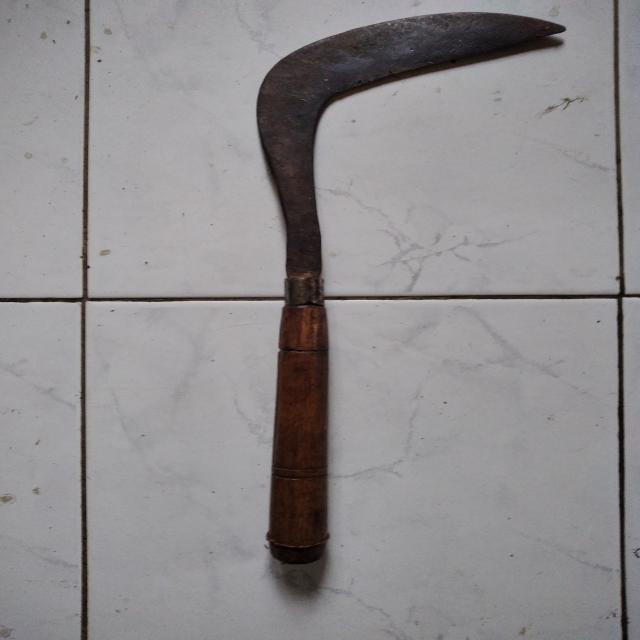Celurit: (253, 12, 565, 568)
